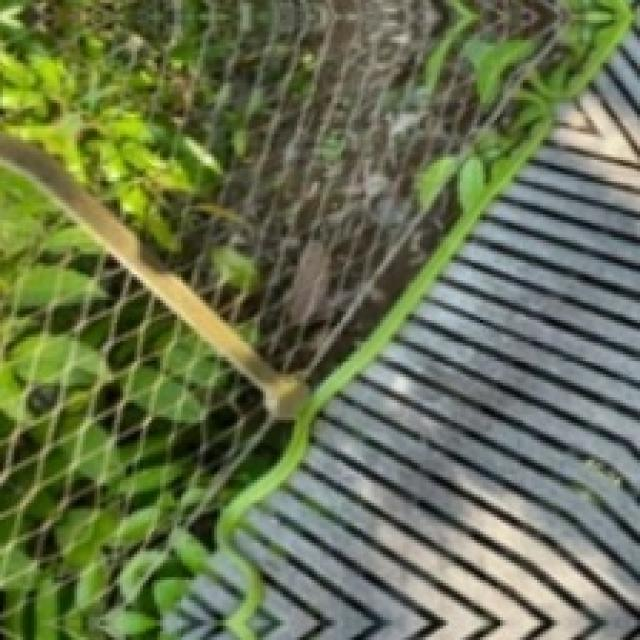red-tailed green ratsnake: (218, 120, 552, 640)
